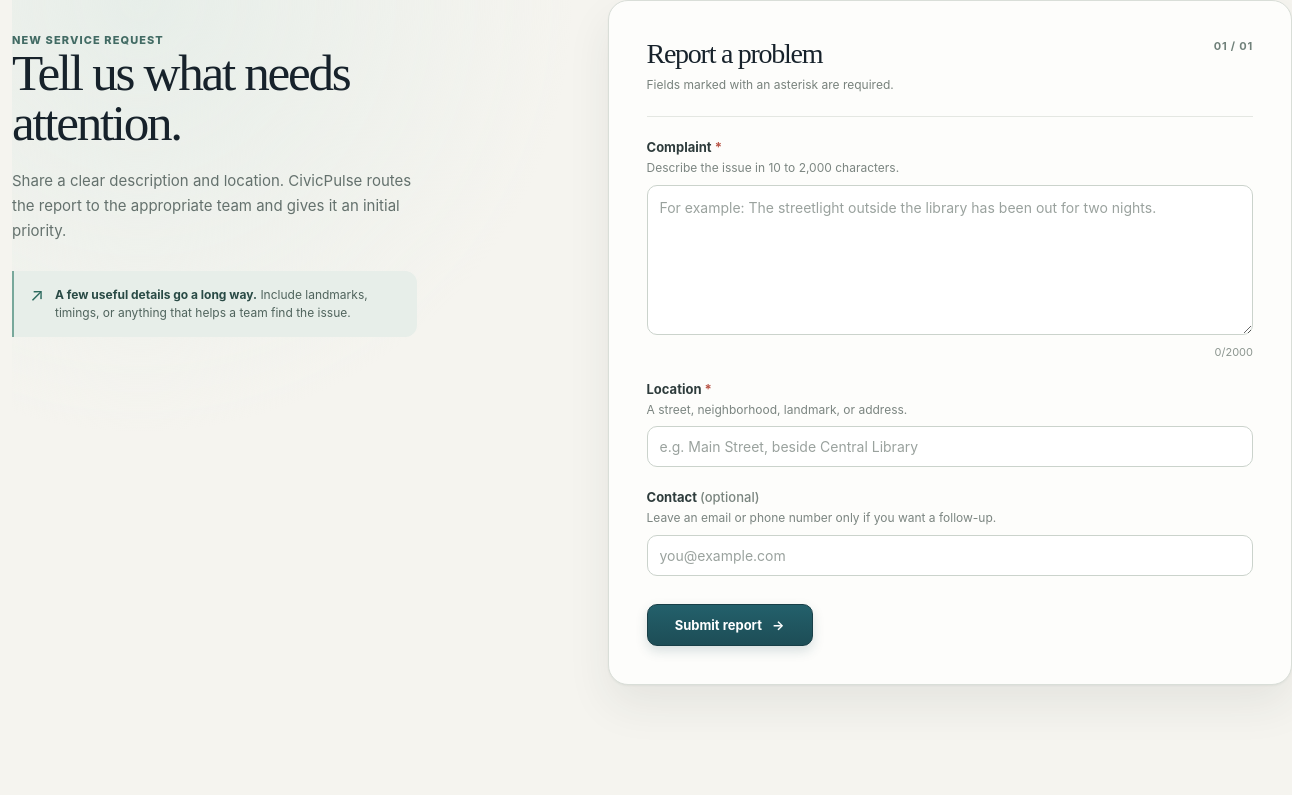
Test: Submit › renders category, priority, summary and provider from the server response
Type "Burst water main on Street 12" into the text box labelled "Complaint" at [950, 260], box [646,185,1253,335]
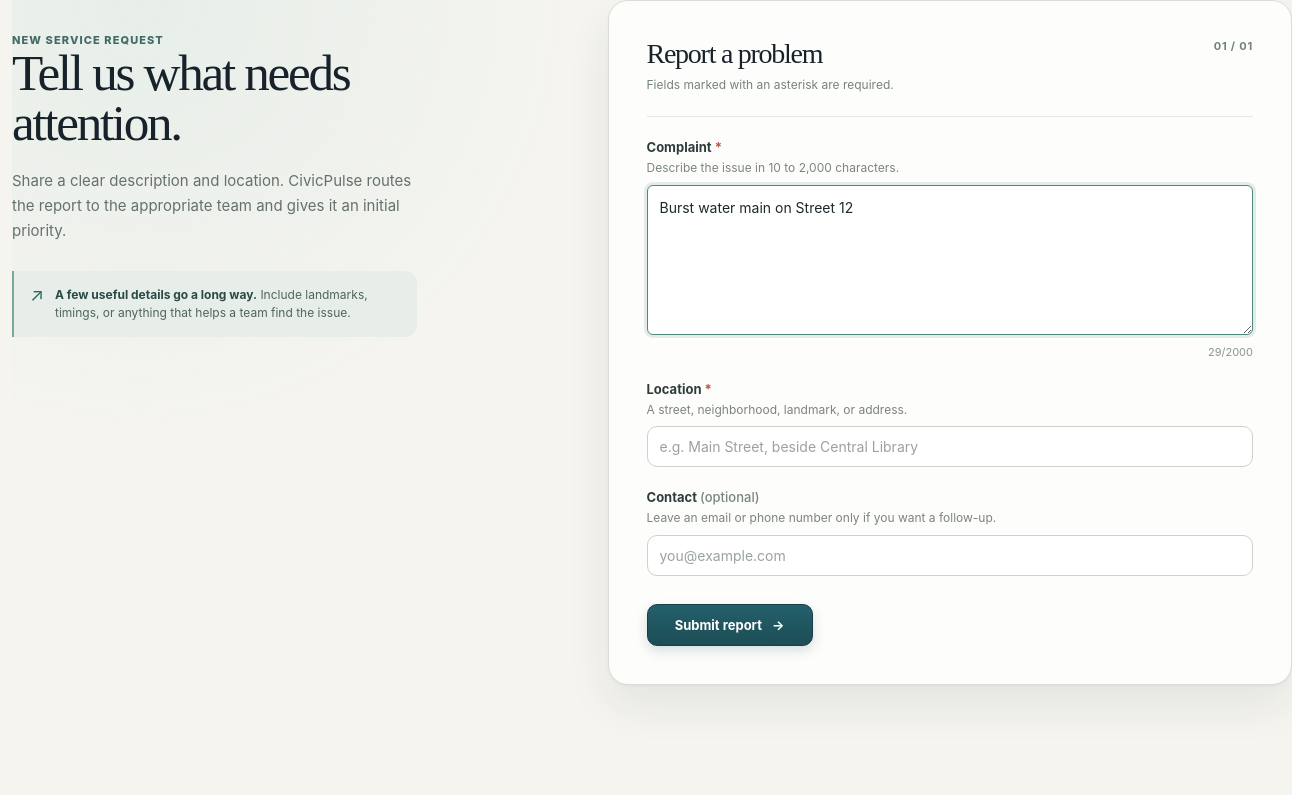
Type "Street 12" into the field labelled "Location" at [950, 447], box [646,426,1253,467]
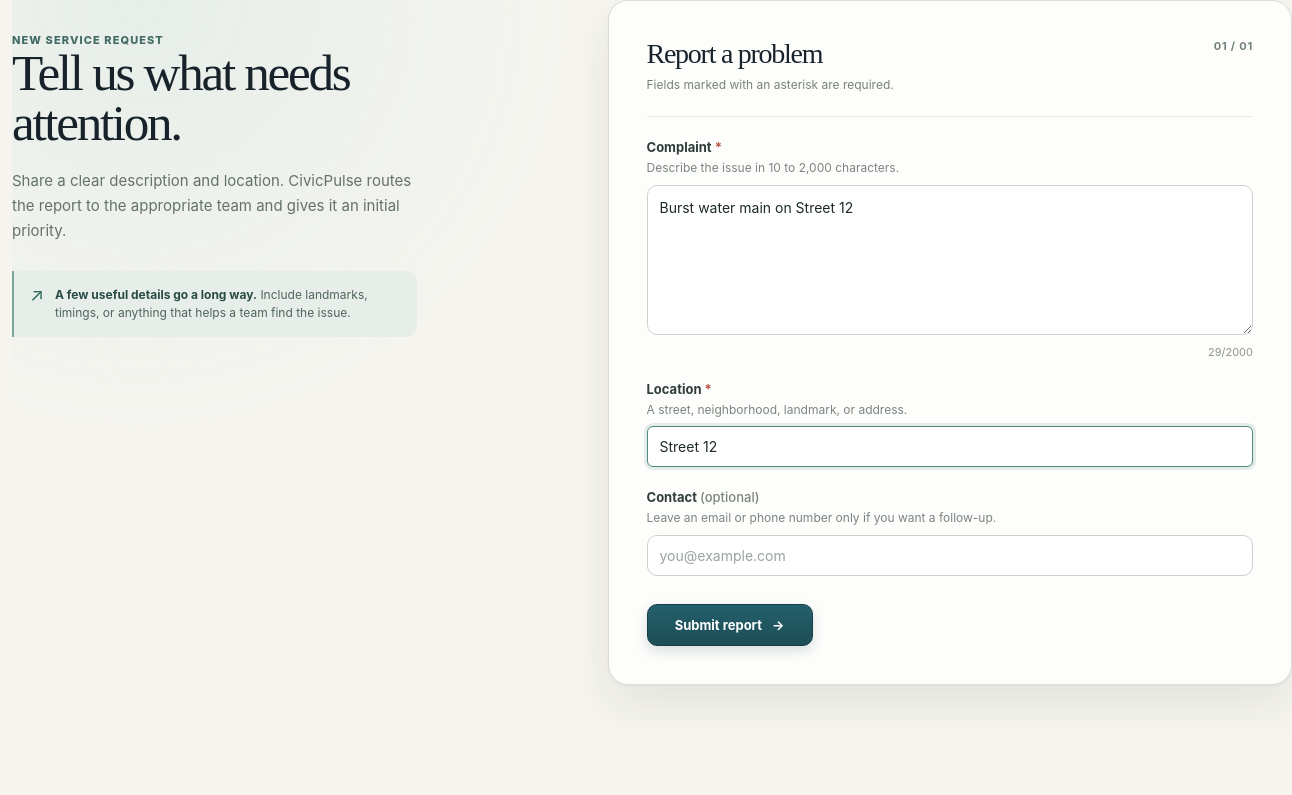
Click the button "Submit report →" at [730, 625], box [646,604,812,646]
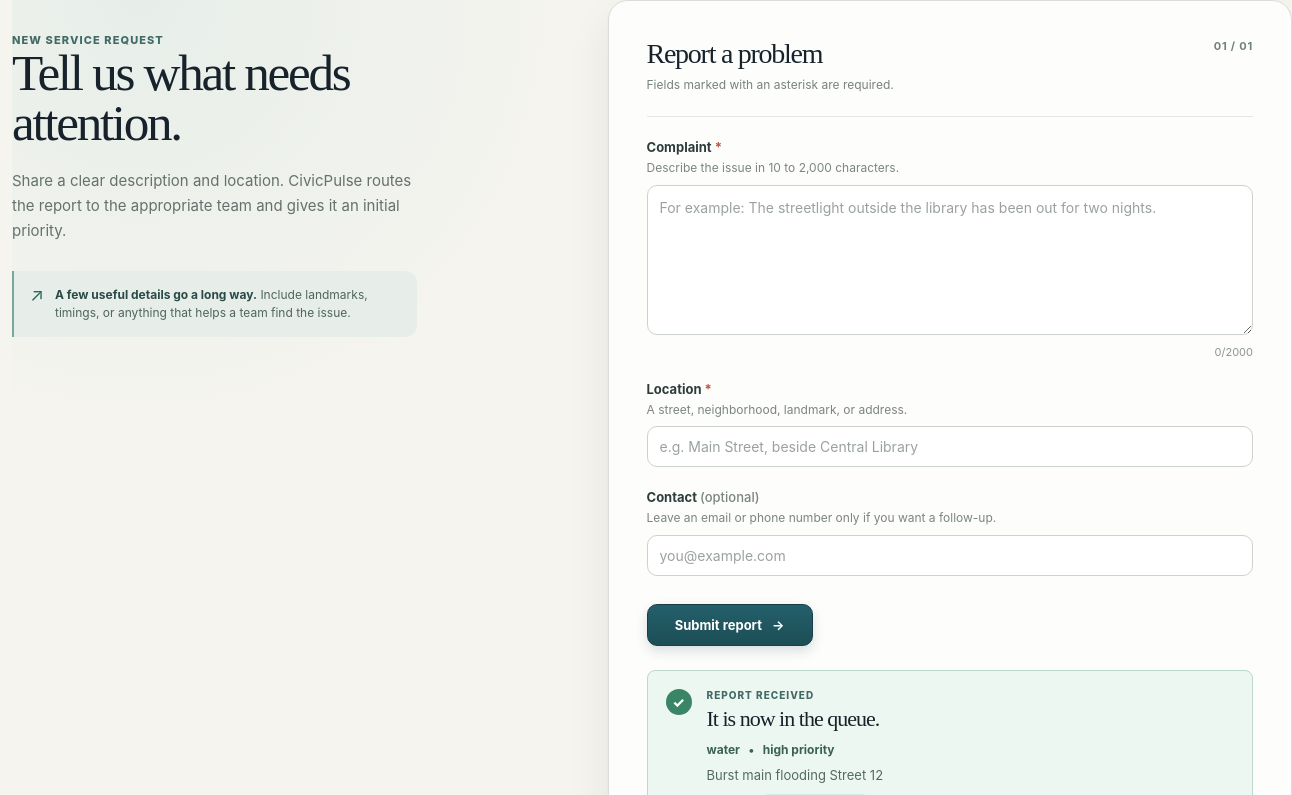
Expected: the text "Burst main flooding Street 12" is shown, [706,766,883,786]
Expected: the text "water" is shown, [706,742,740,757]
